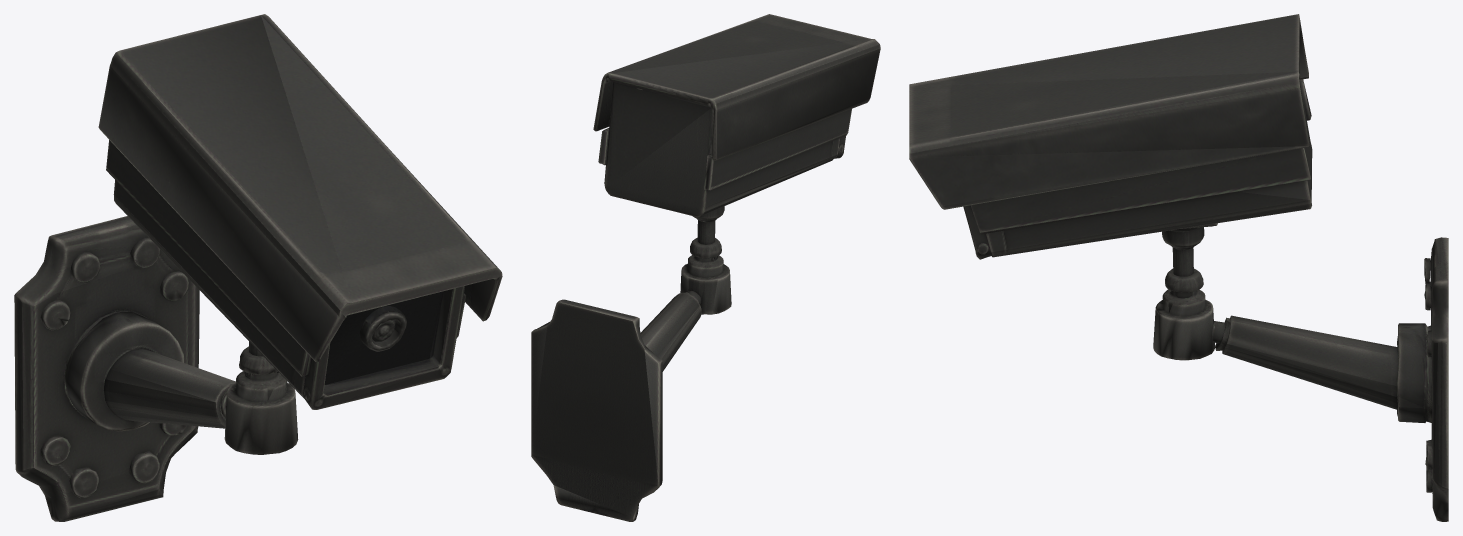
Rendered from rrr_prop_cam-wall_v1.glb.
3 views of the same model, side by side, from view 1: azimuth 30°, elevation 25°; view 2: azimuth 150°, elevation 25°; view 3: azimuth 270°, elevation 25° (orthographic). The views are drawn at different scales.
Parts seen in each view (by area): view 1: Mesh_0; view 2: Mesh_0; view 3: Mesh_0.
Boxes of the visible parts, <box> form: Mesh_0: <box>14,14,502,521</box>; Mesh_0: <box>531,14,880,521</box>; Mesh_0: <box>909,14,1448,521</box>.
Bounding box in the file's own units: 0.0877 × 0.25 × 0.2672.
1 material, 1 textured.
